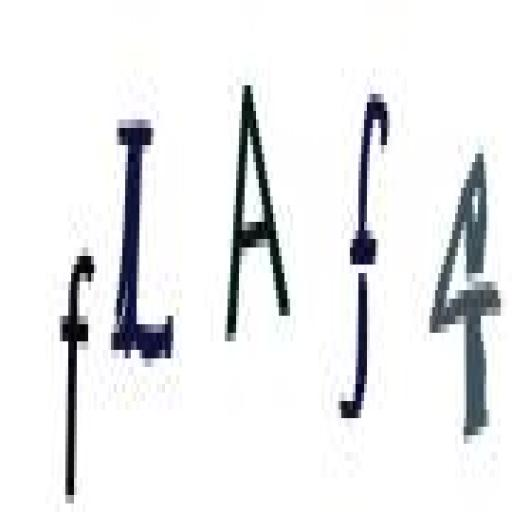4: (425, 138, 502, 457)
A: (222, 64, 296, 350)
L: (106, 102, 176, 374)
f: (334, 72, 395, 434), (57, 239, 99, 509)
